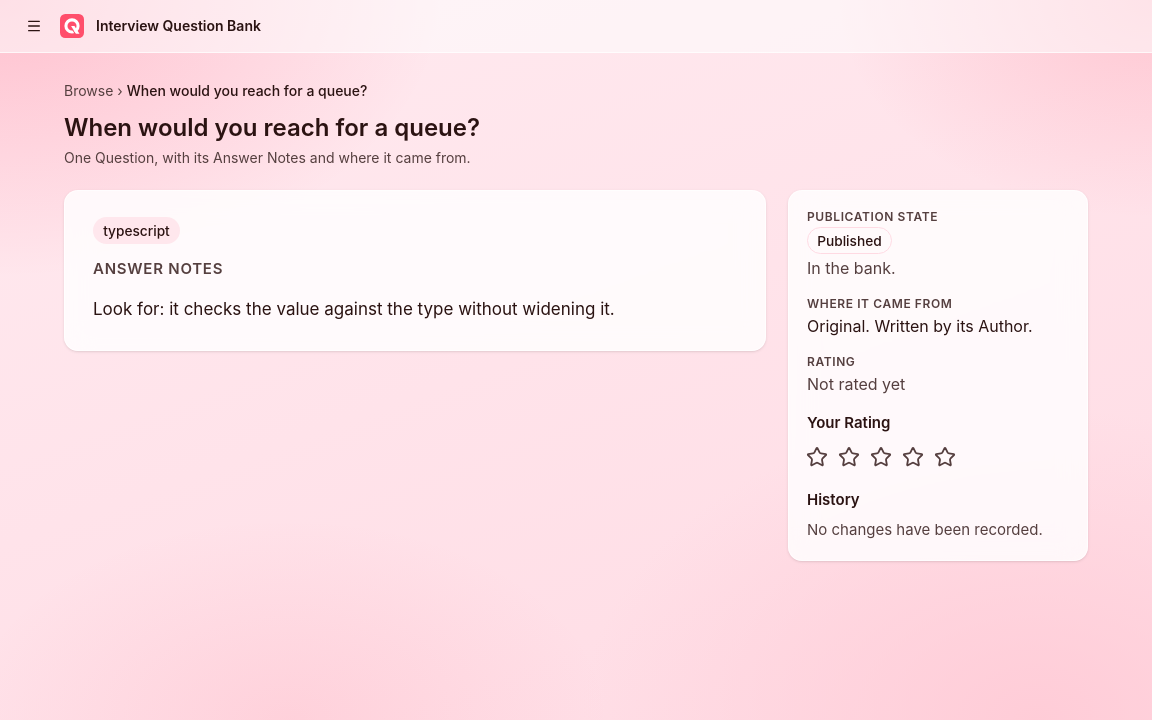
it: rating a Question › asks for neither the Question nor its history again, and the list shows the Rating
Expected: the heading "When would you reach for a queue?" is shown, 64,113 -> 480,142
Step 1. Click the button named "3 out of 5" → (881, 457), box 865,441 -> 897,473
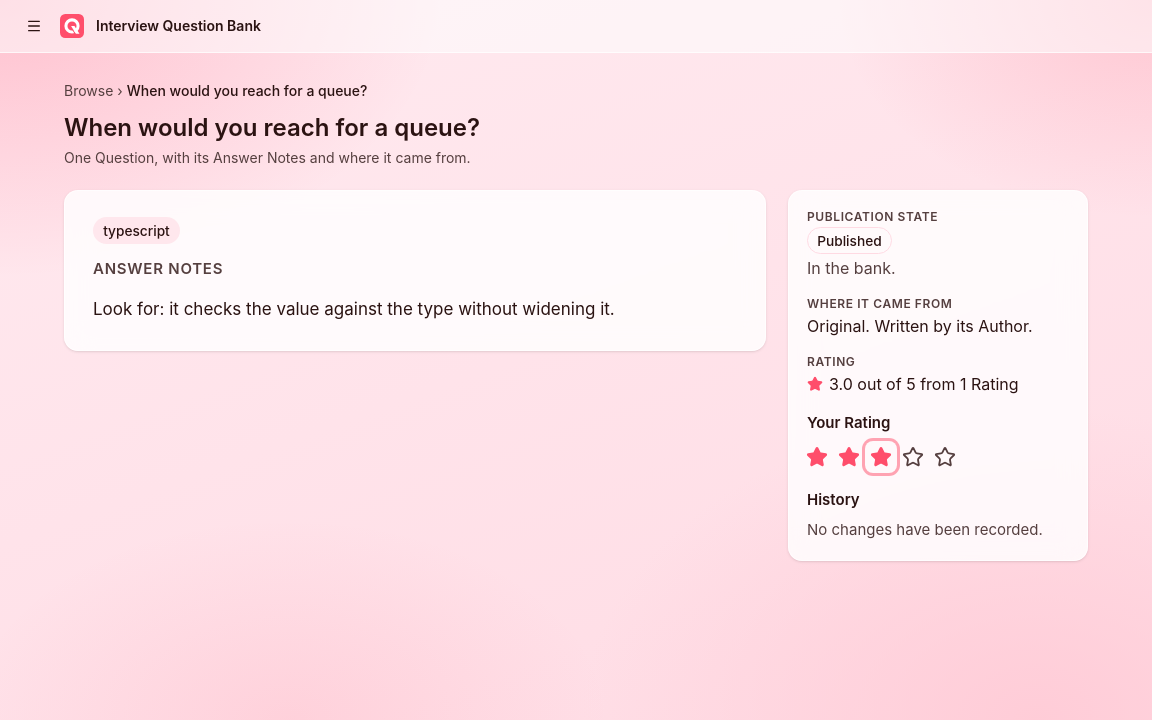
Expected: the text "3.0 out of 5 from 1 Rating" is shown, 829,372 -> 1018,396
Step 2. Click the link "Browse" → (89, 91), box 64,81 -> 113,101
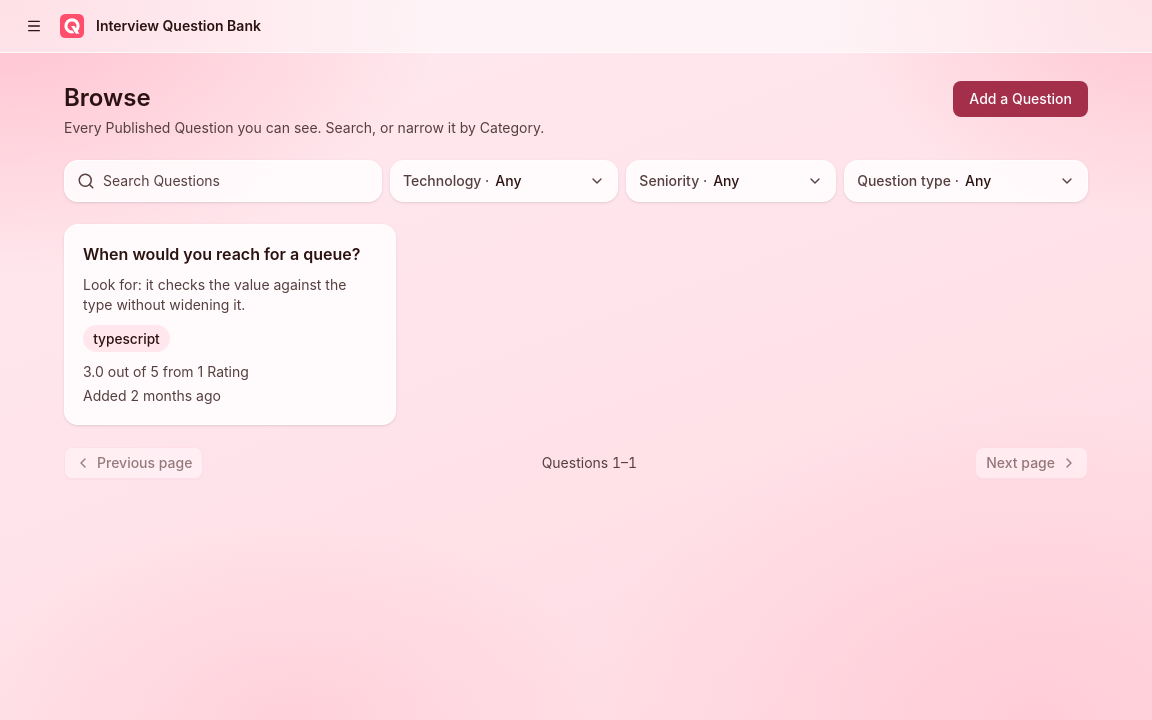
Expected: the text "3.0 out of 5 from 1 Rating" is shown, 83,362 -> 249,382
